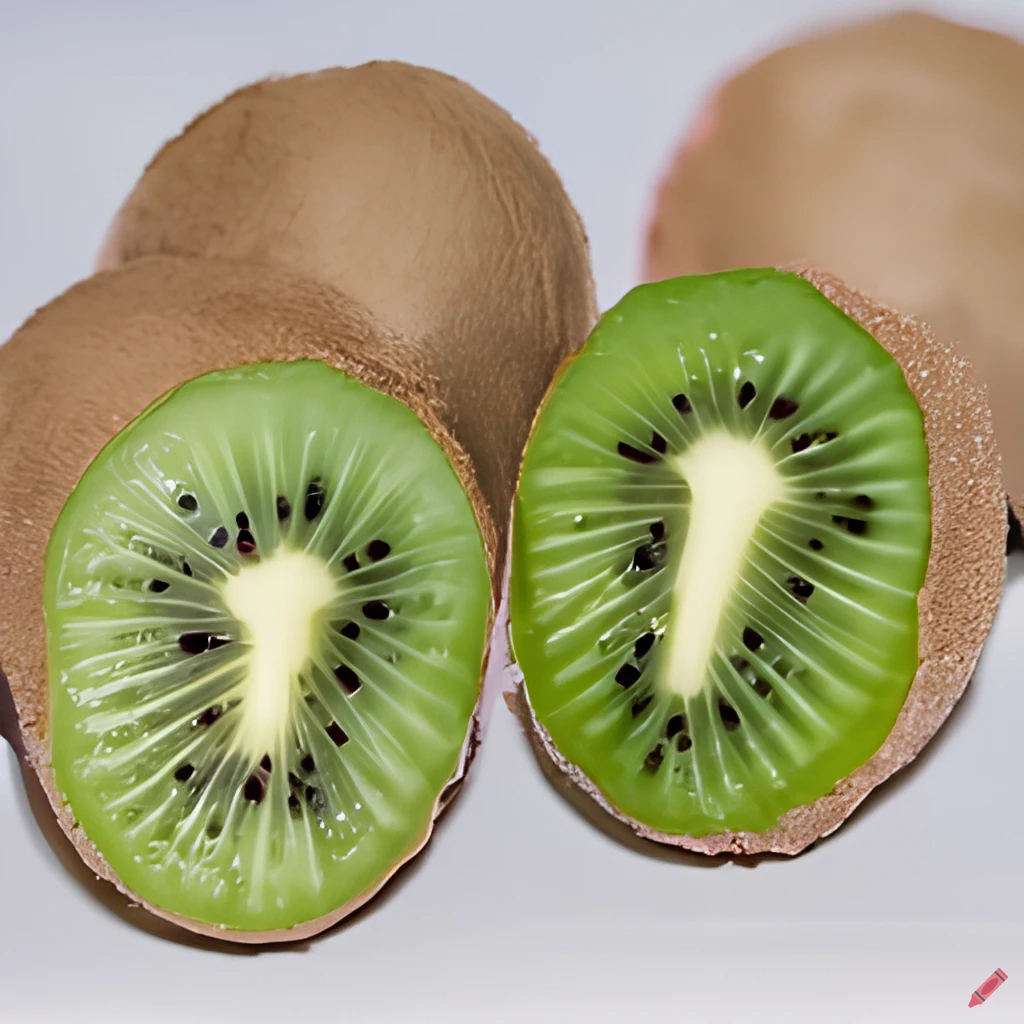Kiwi: (489, 264, 1002, 876)
